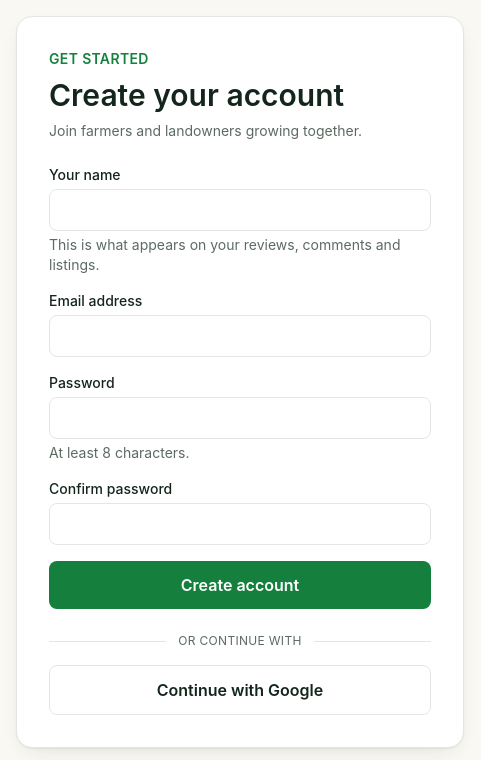
it: Register › validates password length before signing up
The image size is (481, 760).
In the field labelled "Your name": (240, 210) [49,189,431,231], type "Amina Farmer"
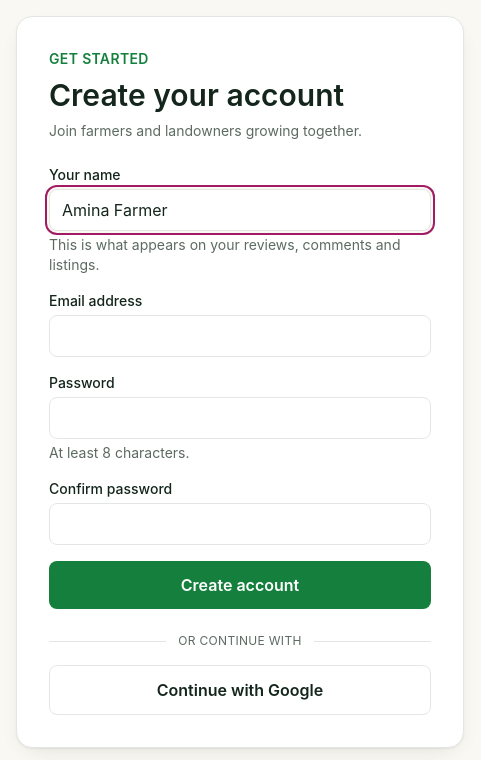
In the field labelled "Email address": (240, 336) [49,315,431,357], type "amina@example.com"
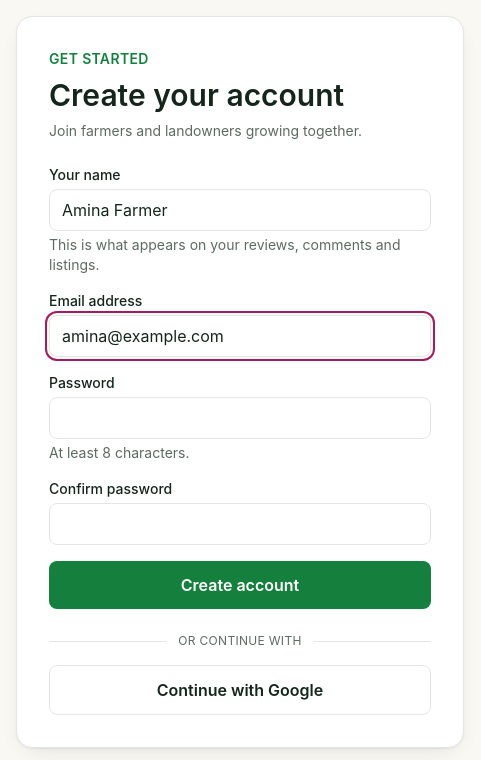
In the password field labelled "Password": (240, 418) [49,397,431,439], type "short"
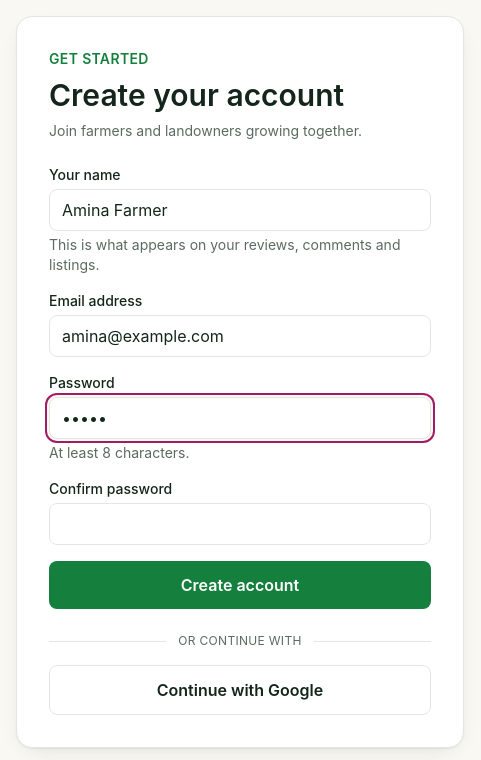
In the password field labelled "Confirm password": (240, 524) [49,503,431,545], type "short"
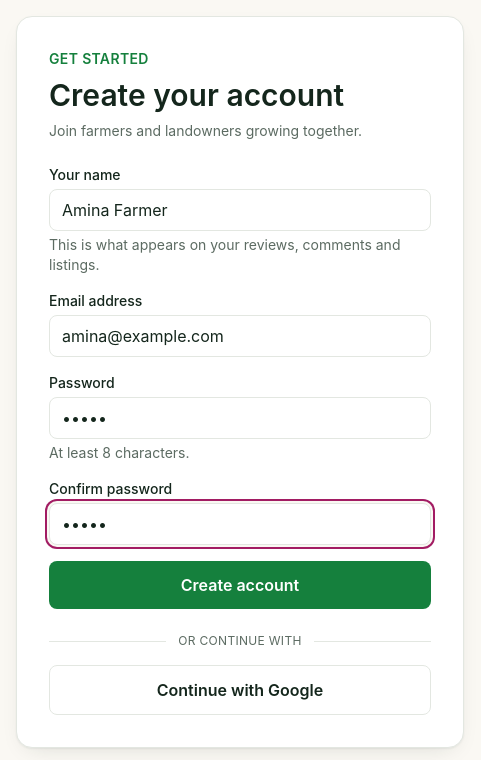
Click the button "Create account": (240, 585) [49,561,431,609]
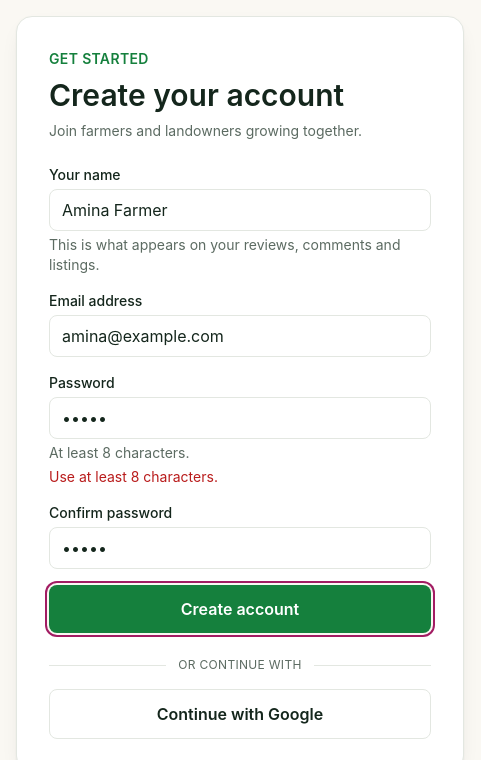
Result: the text "Use at least 8 characters." is shown at [49,468,218,485]
